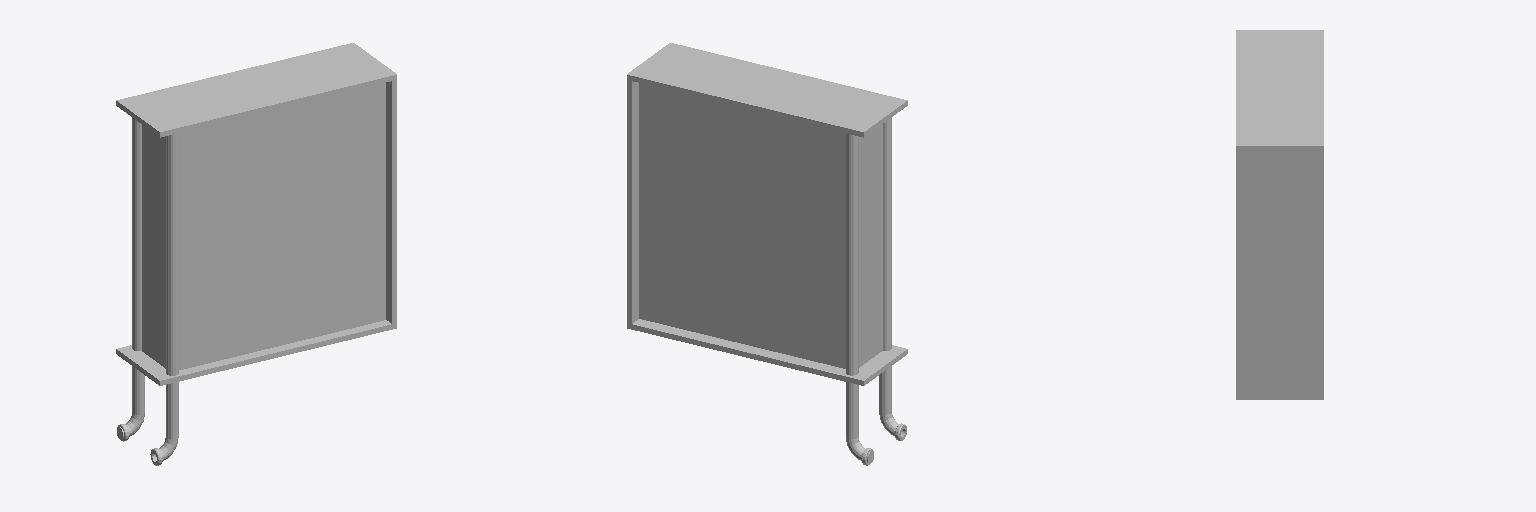
Rendered from coolingCoil_clean.obj.
3 renders of one model, left to right at view 1: azimuth 30°, elevation 25°; view 2: azimuth 150°, elevation 25°; view 3: azimuth 270°, elevation 25°, orthographic.
Visible parts, largest first — view 1: CoolingCoil_CoolingCoilGeom; view 2: CoolingCoil_CoolingCoilGeom; view 3: CoolingCoil_CoolingCoilGeom.
Part boxes in pixels (bbox=[...]): CoolingCoil_CoolingCoilGeom: bbox=[116, 43, 396, 465]; CoolingCoil_CoolingCoilGeom: bbox=[627, 43, 907, 465]; CoolingCoil_CoolingCoilGeom: bbox=[1236, 30, 1323, 399].
Bounding box in the file's own units: 1.73 × 2.33 × 0.5496.